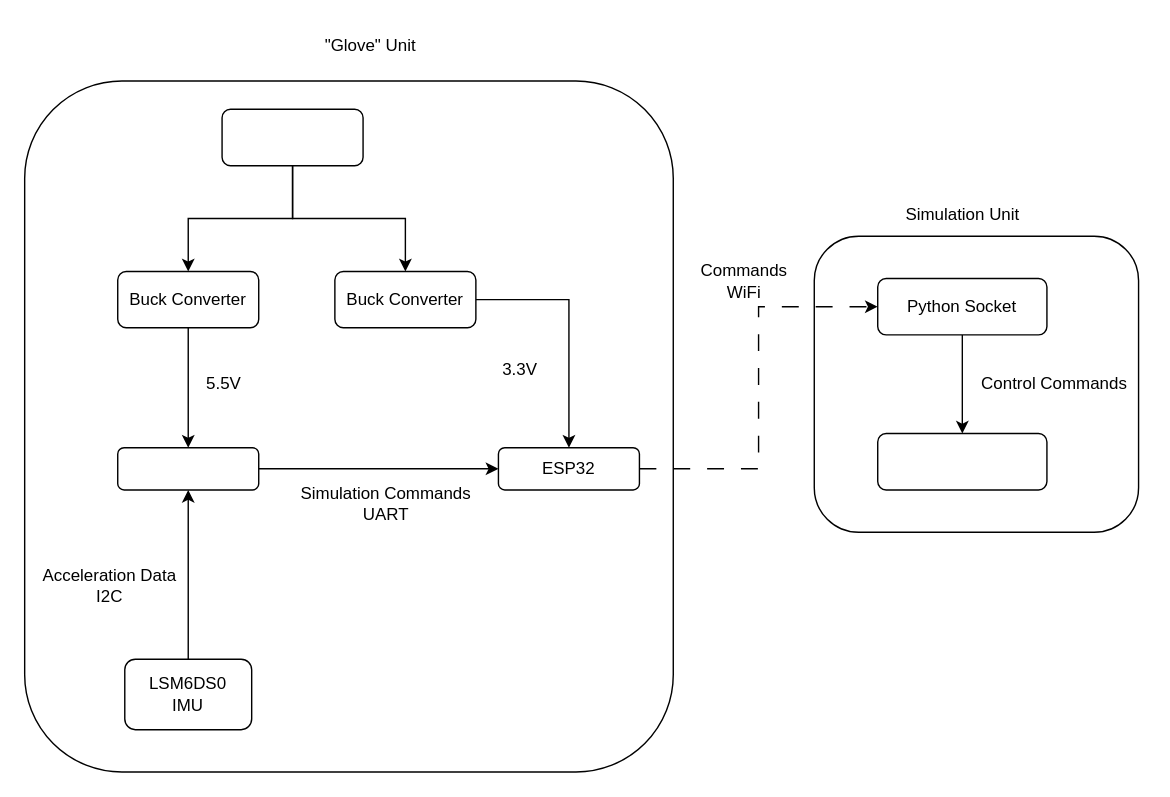
This 1170x797 diagram has some shape labels left out. The centre of each missing label's shape, as x and y in pixels:
9V battery: the point at 292,137
ATMega328PB: the point at 187,468
Simulation: the point at 961,461
